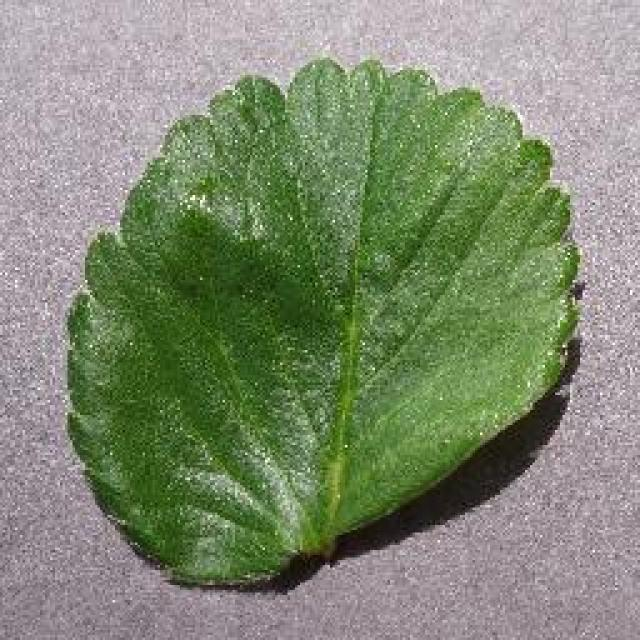Strawberry___healthy: (87, 87, 528, 573)
